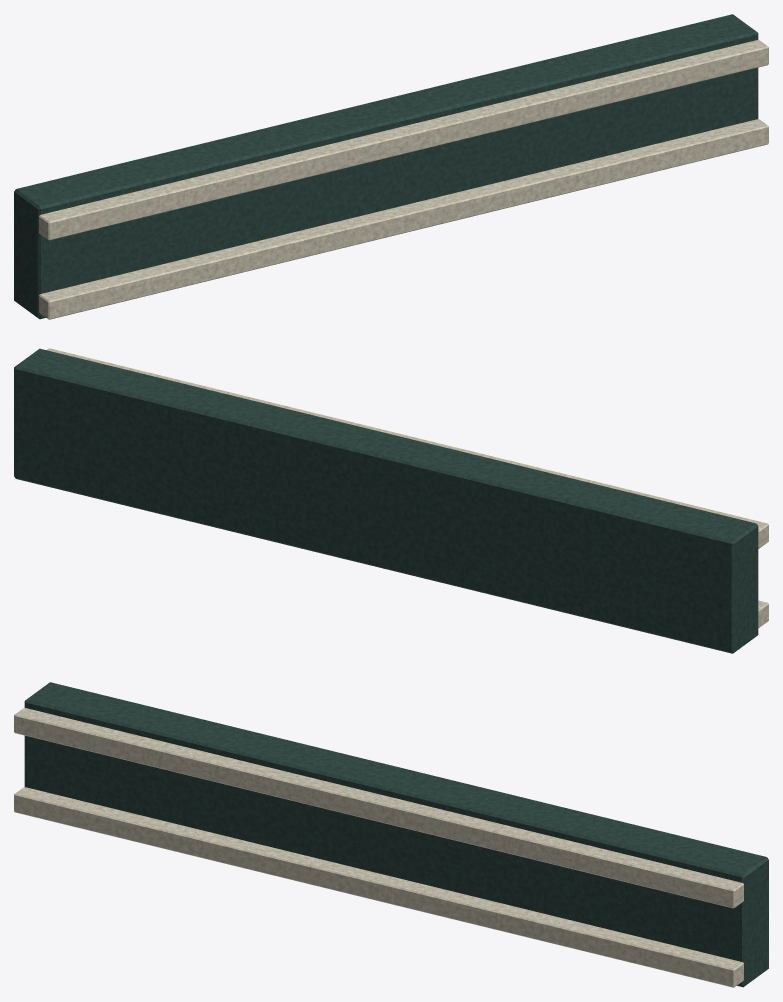
File: TOP1A_lod1.glb
3 renders of one model, top to bottom at view 1: azimuth 30°, elevation 25°; view 2: azimuth 150°, elevation 25°; view 3: azimuth 330°, elevation 25°, orthographic.
Visible parts, largest first — view 1: TOP1A_LOD1; view 2: TOP1A_LOD1; view 3: TOP1A_LOD1.
Part boxes in pixels (x1,y1,x2,y2): TOP1A_LOD1: (14, 14, 768, 319); TOP1A_LOD1: (14, 348, 768, 653); TOP1A_LOD1: (14, 682, 768, 987).
Bounding box in the file's own units: 4 × 0.6 × 0.345.
2 materials, 2 textured.
